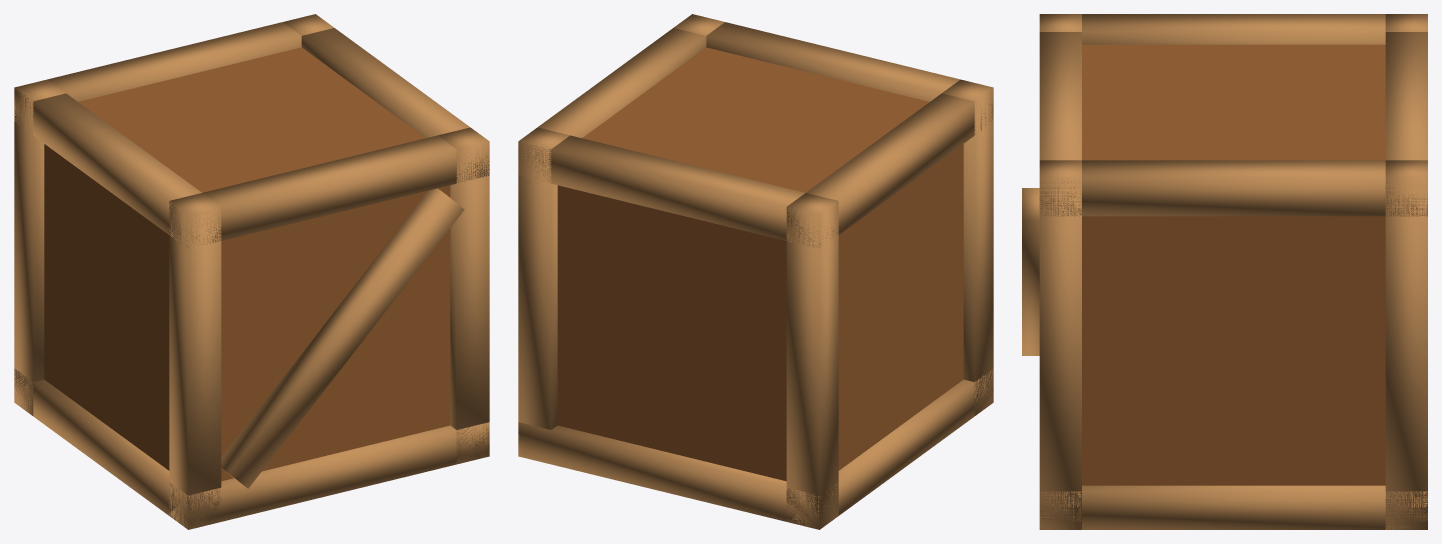
Rendered from crate_in.glb.
3 renders of one model, left to right at view 1: azimuth 30°, elevation 25°; view 2: azimuth 150°, elevation 25°; view 3: azimuth 270°, elevation 25°, orthographic. The views are drawn at different scales.
Parts seen in each view (by area): view 1: crate_in; view 2: crate_in; view 3: crate_in.
Part boxes in pixels (<box>): crate_in: <box>14,14,489,529</box>; crate_in: <box>518,14,993,529</box>; crate_in: <box>1022,14,1427,529</box>.
Bounding box in the file's own units: 0.55 × 0.55 × 0.575.
